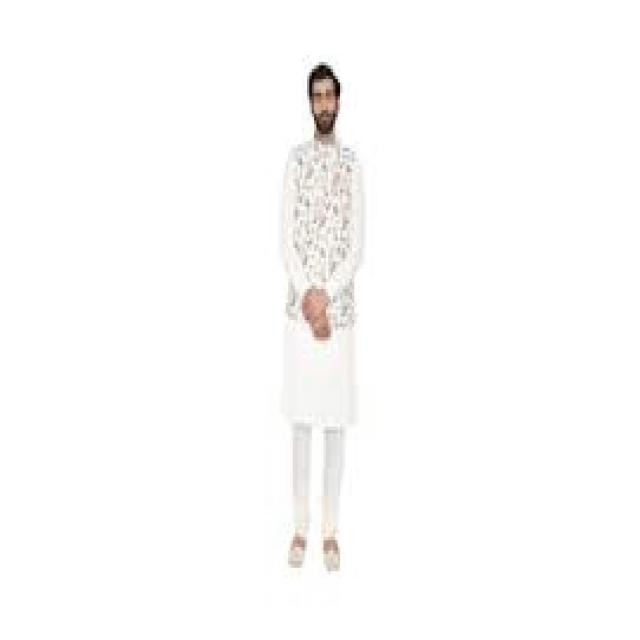adult: (258, 51, 373, 582)
